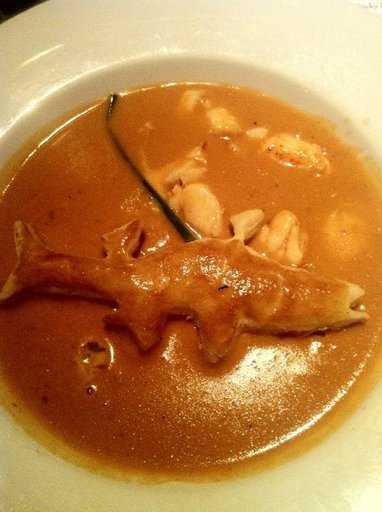soup: (3, 57, 376, 486)
